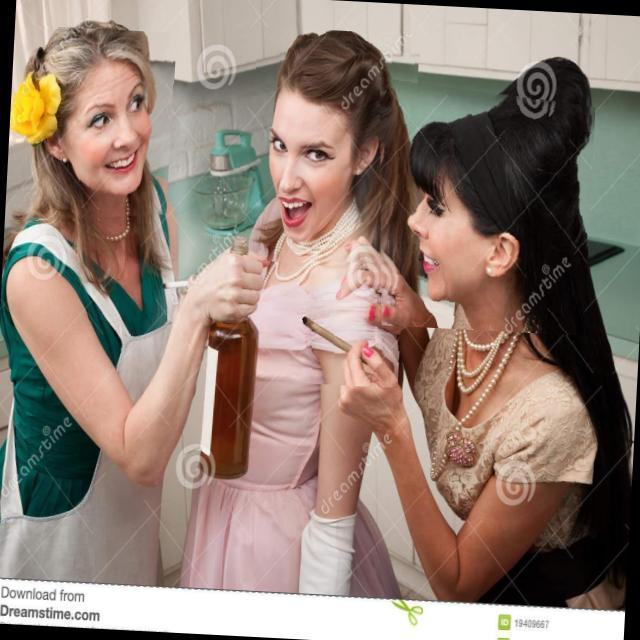cigarette: (272, 301, 402, 388)
